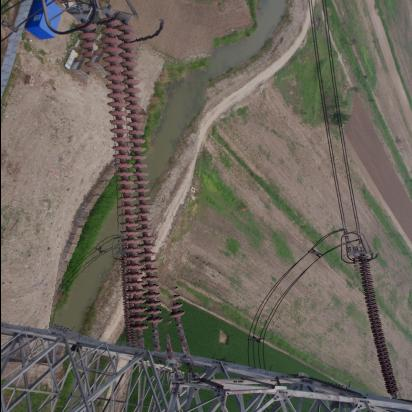insulator: (61, 14, 205, 350), (348, 254, 408, 400)
